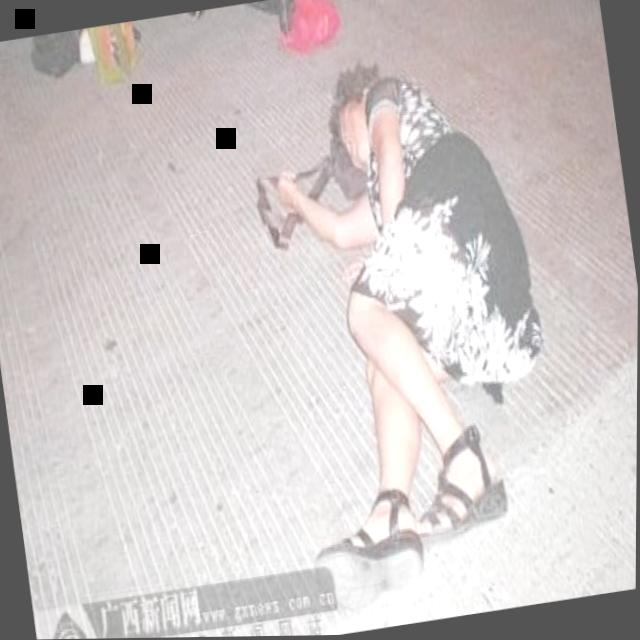Fall-Detected: (231, 24, 594, 621)
